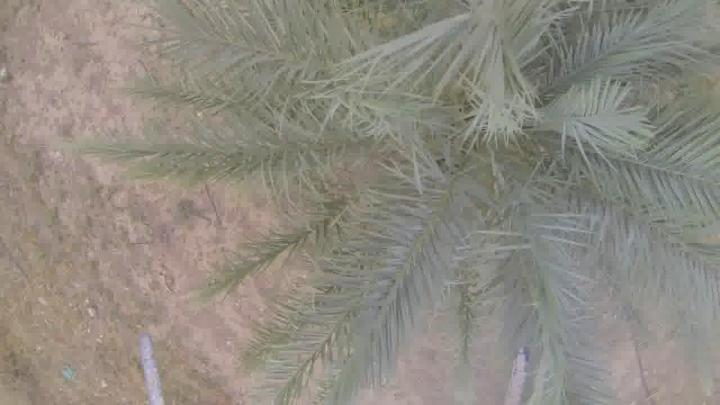Date-Palm-Crown: (272, 0, 694, 366)
